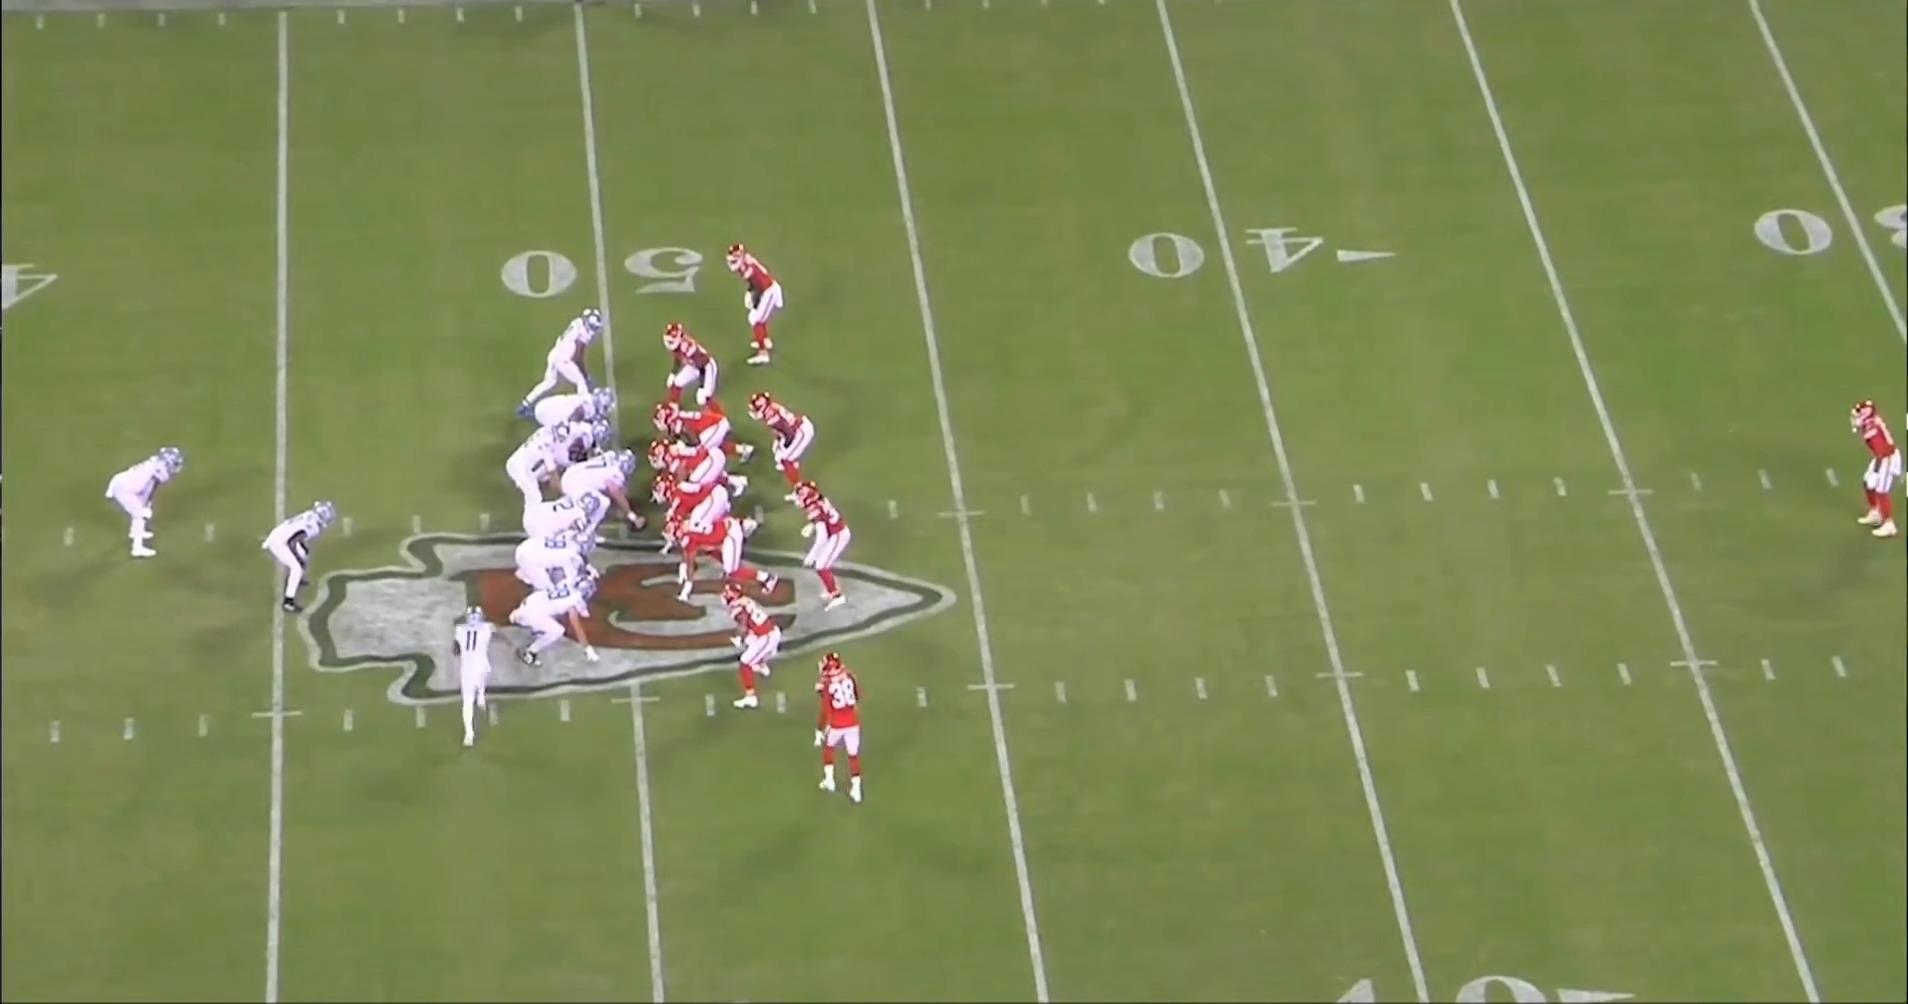defense: (668, 511, 790, 603), (815, 650, 882, 810), (787, 482, 854, 609), (1851, 399, 1908, 546), (723, 578, 786, 708), (729, 236, 791, 367), (741, 395, 814, 505), (656, 474, 746, 560), (668, 325, 734, 420), (655, 406, 751, 469), (651, 441, 745, 506)
oline: (514, 517, 601, 628), (550, 450, 642, 547), (525, 491, 609, 550), (531, 388, 616, 439), (538, 417, 608, 464)
qb: (500, 415, 568, 526)
skill: (103, 444, 192, 569), (517, 303, 612, 417), (449, 595, 511, 758), (265, 496, 347, 618), (517, 566, 608, 674)
